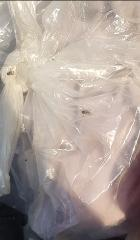plastic: (0, 0, 140, 240)
